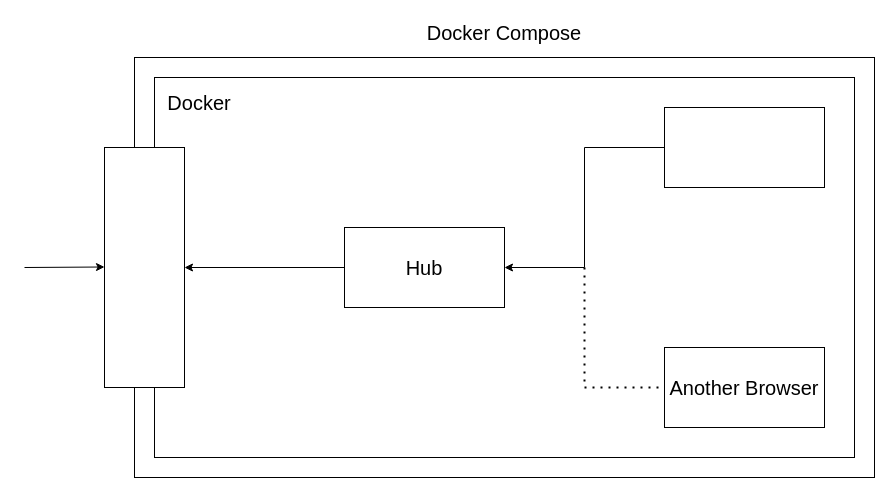
This 892x495 diagram has some shape labels left out. Here are the shapes that lost their labels. From the top down, the centre of each, then its label:
point (744, 147): Microsoft Edge
point (144, 267): Port 4444:4444
